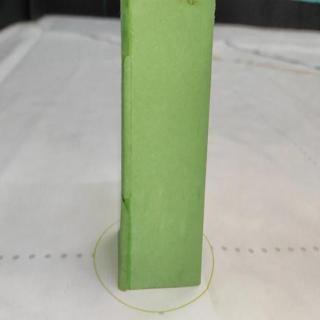greenbox: (119, 1, 215, 291)
